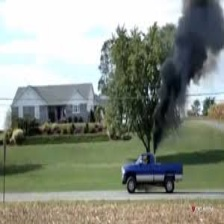smoke: (150, 2, 217, 152)
